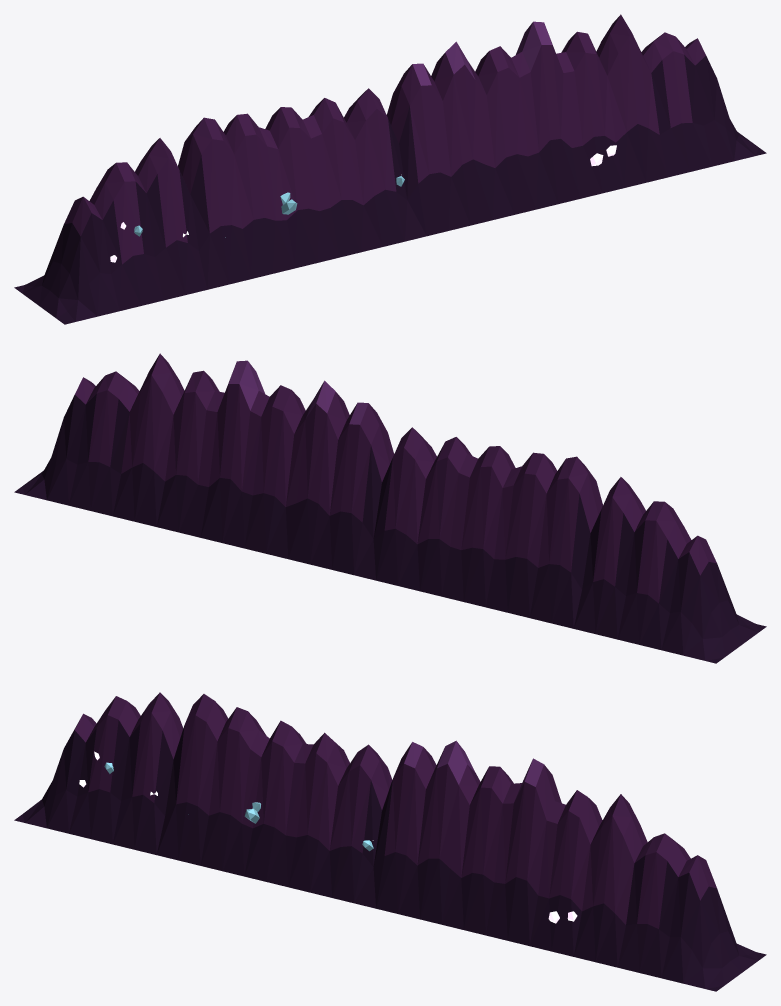
The model's file is W4_Far_CaveWall.fbx.
3 views of the same model, one above another, from view 1: azimuth 30°, elevation 25°; view 2: azimuth 150°, elevation 25°; view 3: azimuth 330°, elevation 25° (orthographic).
Visible parts, largest first — view 1: W4_Far_CaveWall; view 2: W4_Far_CaveWall; view 3: W4_Far_CaveWall.
Boxes of the visible parts, left/top/right/bottom form: W4_Far_CaveWall: left=14, top=14, right=766, bottom=324; W4_Far_CaveWall: left=14, top=353, right=766, bottom=663; W4_Far_CaveWall: left=14, top=692, right=766, bottom=991.
Bounding box in the file's own units: 480 × 107 × 60.69.
